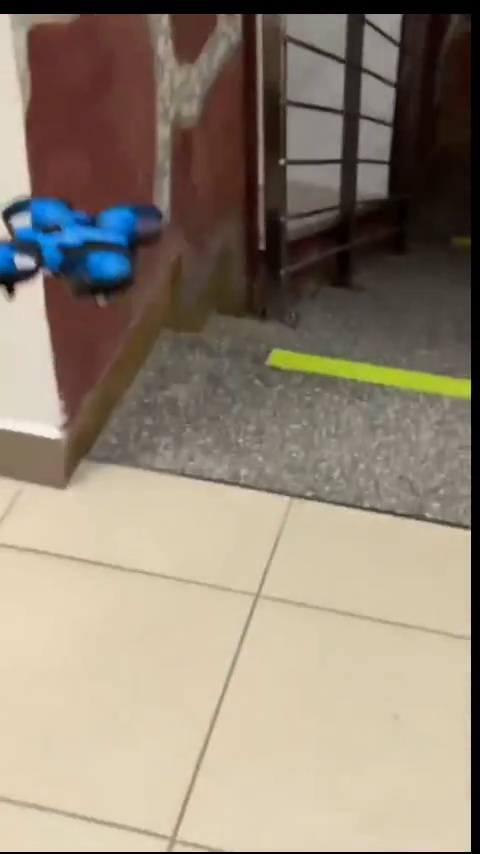drone: (0, 195, 165, 303)
